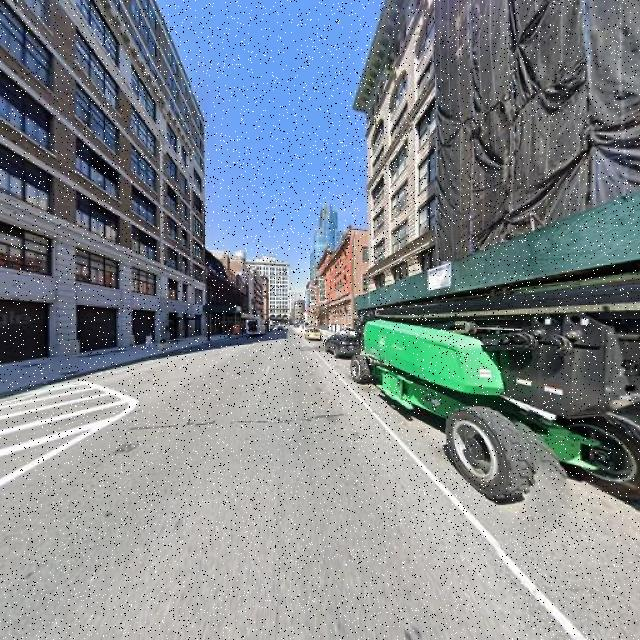Building: (442, 1, 640, 380), (1, 1, 204, 360), (372, 1, 439, 345), (327, 227, 351, 330)
